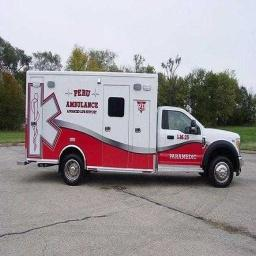Ambulance: (23, 71, 242, 186)
